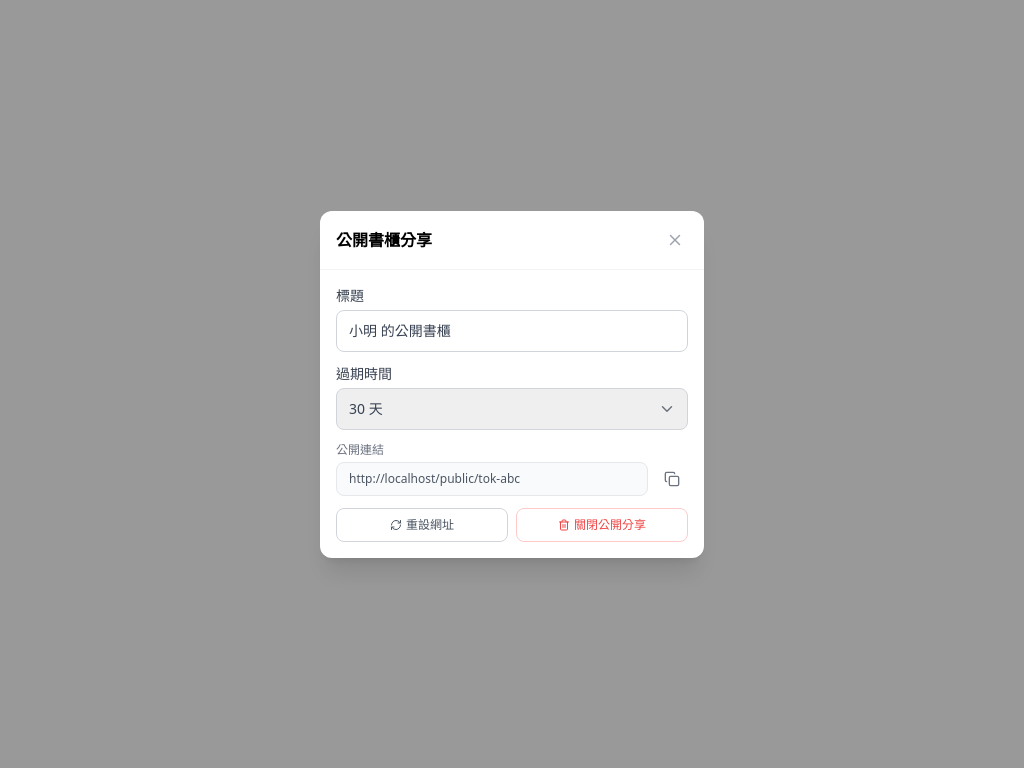
Test: PublicShareDialog · refused writes never advance the UI › revoking the public link › reports a SHELF_NOT_FOUND refusal in 繁體中文 and keeps the link live
The width and height of the screenshot is (1024, 768).
Click the button "關閉公開分享" at (602,524), box [516,508,688,542]
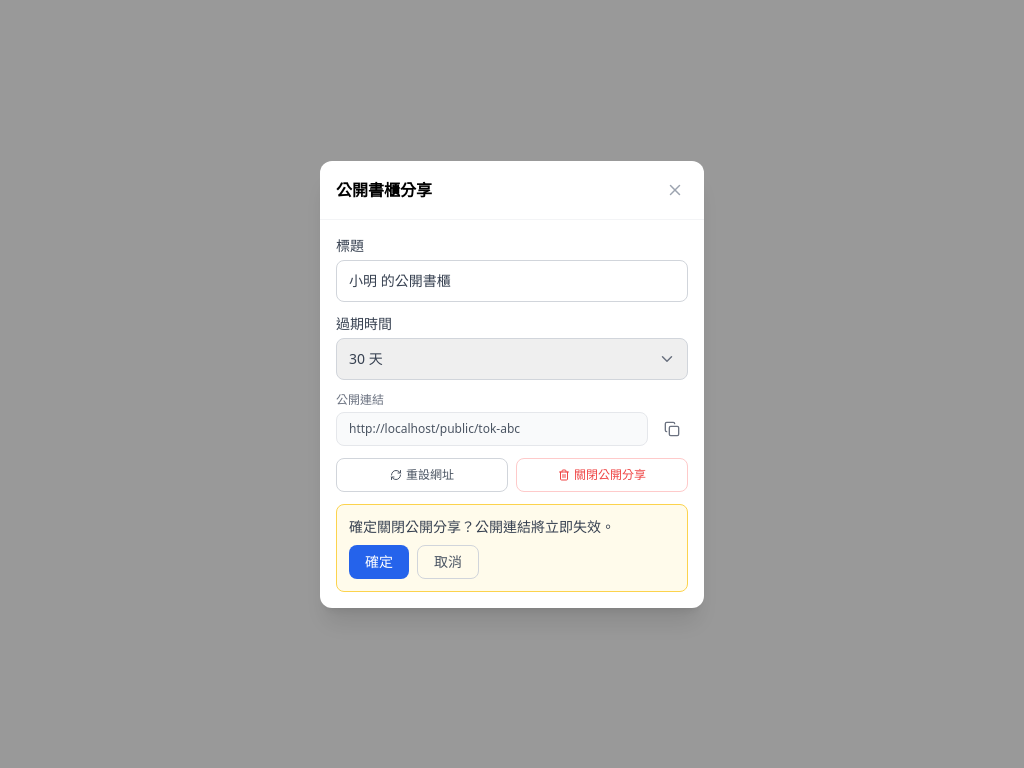
Click the button "確定" at (379,562), box [349,544,409,578]
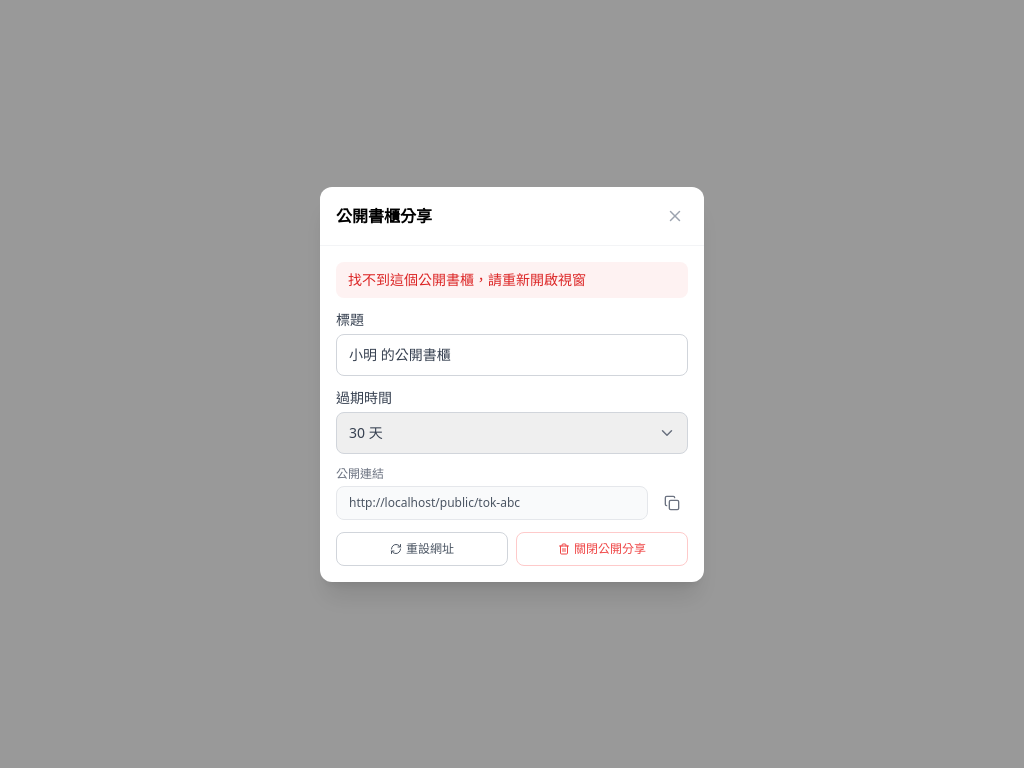
Check: the message does not show "shelf not found", box [336,262,688,298]
Check: the message reads "找不到這個公開書櫃，請重新開啟視窗", box [348,270,586,288]
